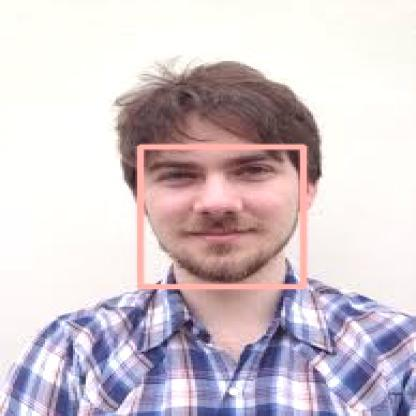without_mask: (140, 146, 303, 286)
